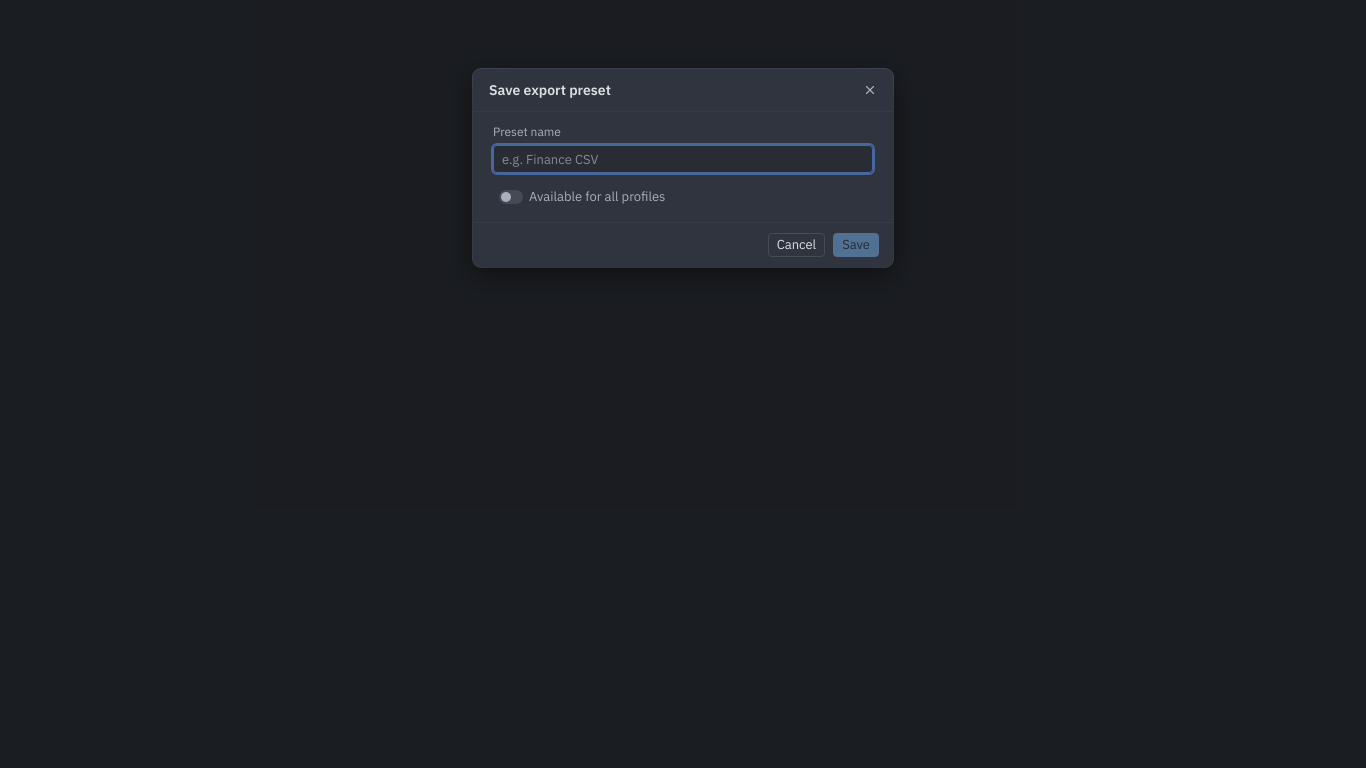
Scenario: ExportSavePresetDialog › shows a duplicate-name error and stays open
Type "Finance CSV" into the field labelled "Preset name".
click(683, 159); type("Finance CSV")  # box [493,145,873,173]
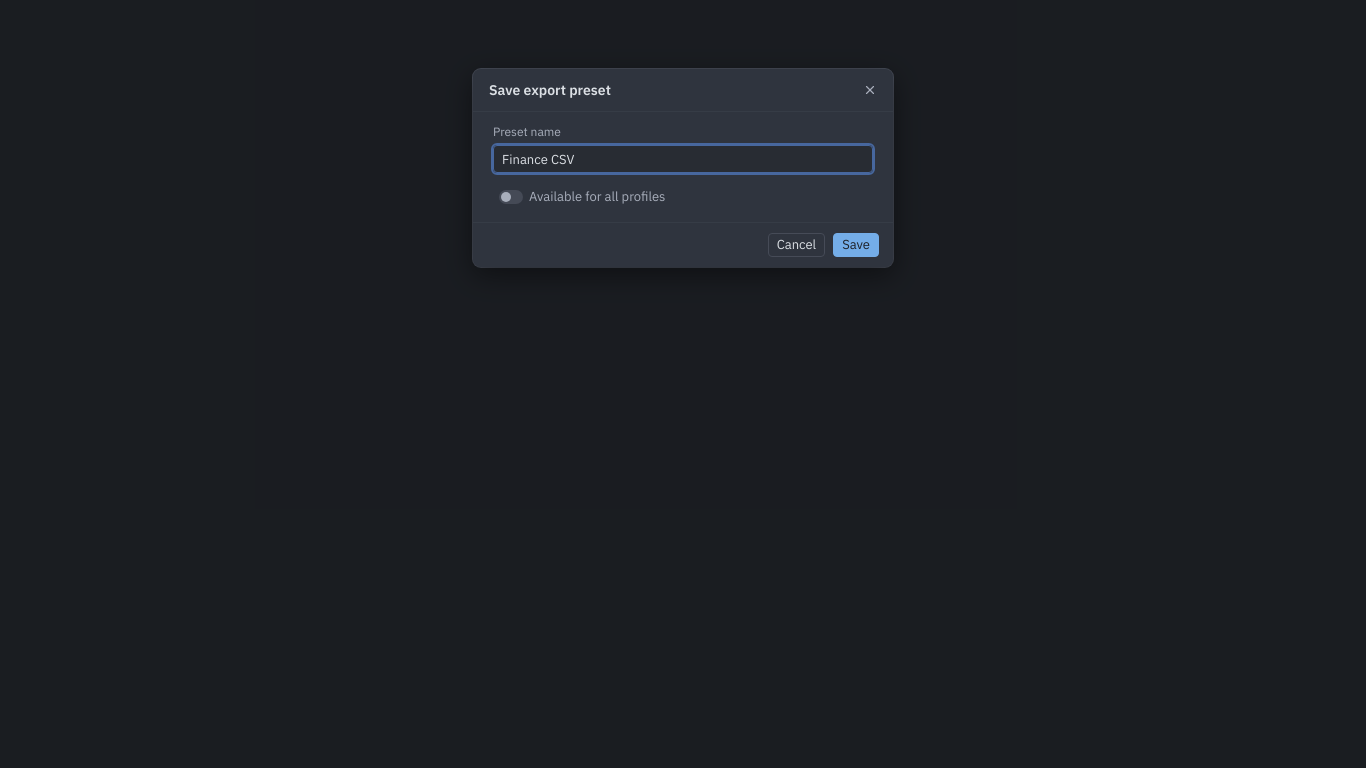
Click the button "Save".
click(856, 245)  # box [833,233,879,257]
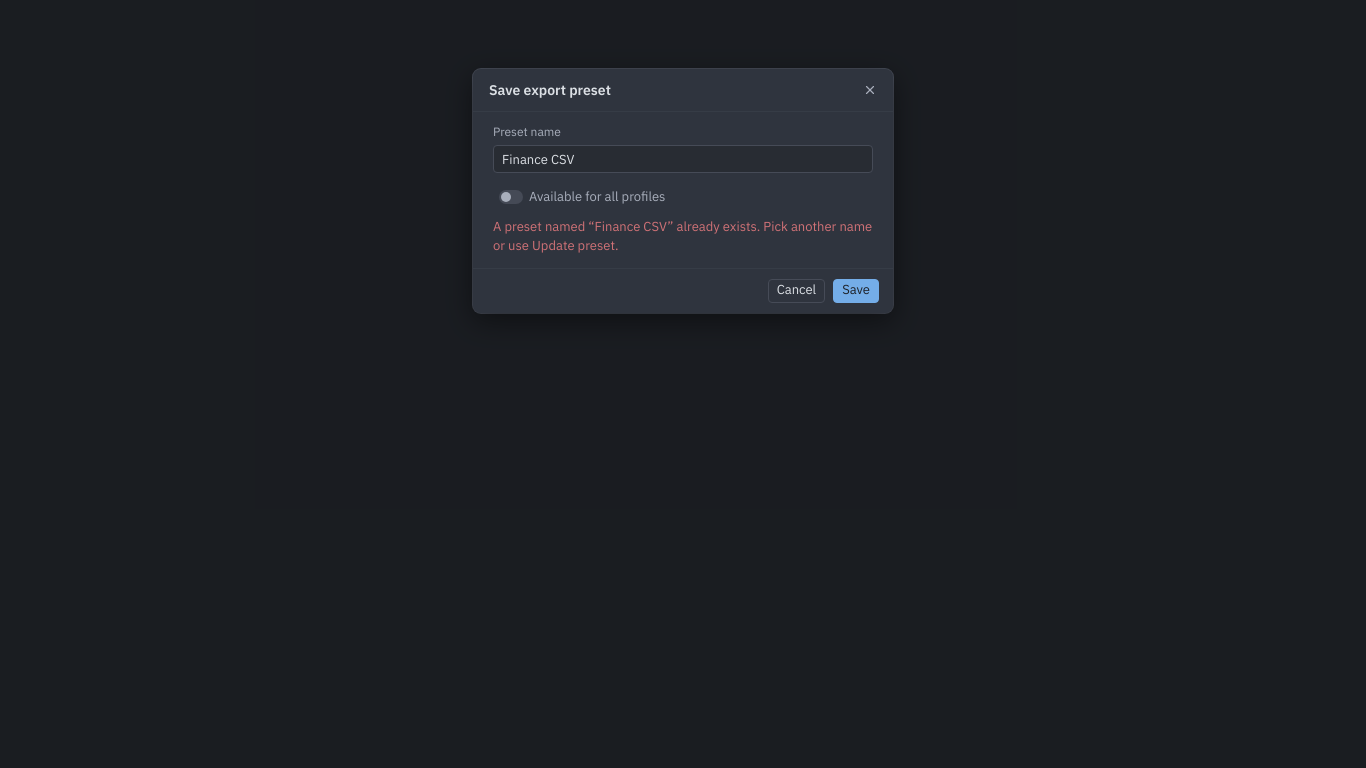
Expected: the message shows "already exists", [493,218,872,254]
